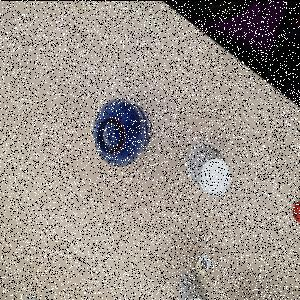Cup: (188, 141, 232, 198), (177, 271, 211, 300)
Plastic-bottle: (93, 98, 152, 168)
